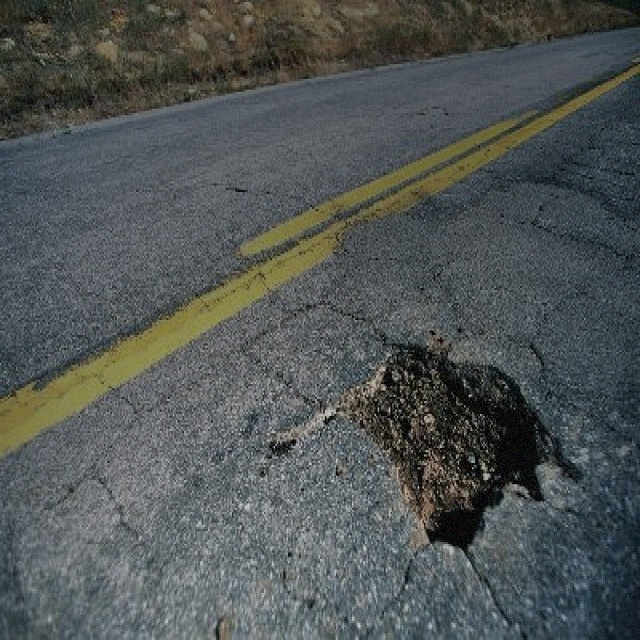pothole: (333, 335, 584, 559)
